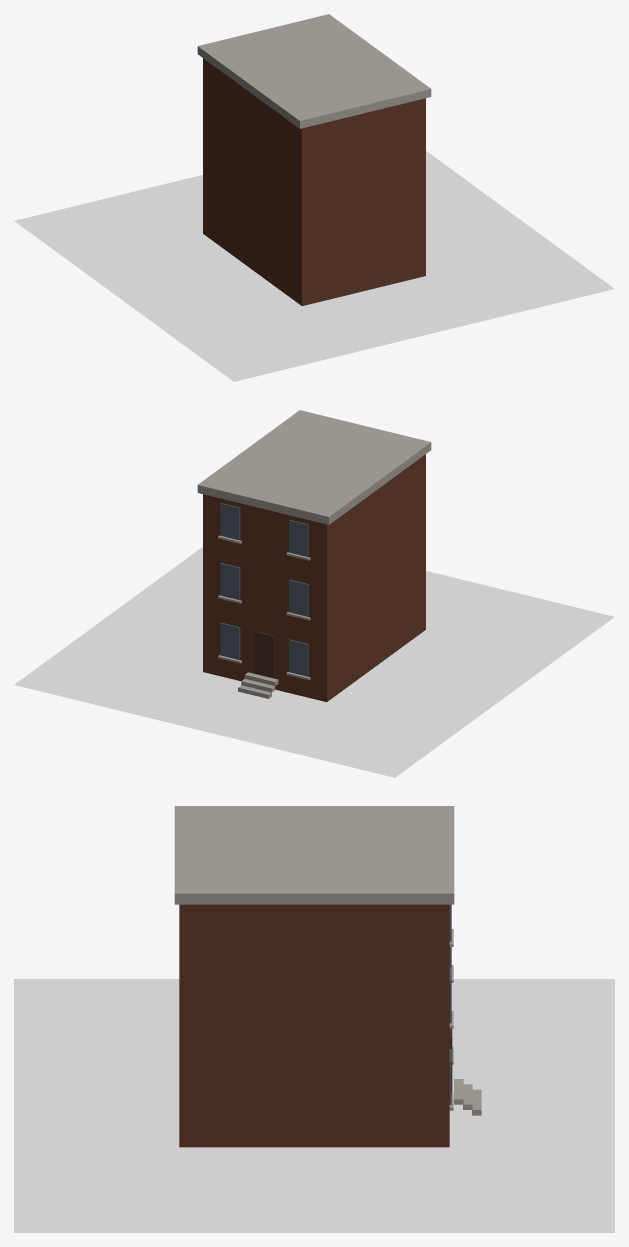
File: rowhouse.glb
The picture shows the model from 3 angles, top to bottom: view 1: azimuth 30°, elevation 25°; view 2: azimuth 150°, elevation 25°; view 3: azimuth 270°, elevation 25°; orthographic projection. The views are drawn at different scales.
Parts seen in each view (by area): view 1: Plane, Cube, Cube.001; view 2: Plane, Cube, Cube.001, Cube.005, Cube.016, Cube.012, Cube.008, Cube.006, Cube.010, Cube.014; view 3: Plane, Cube, Cube.001.
Part boxes in pixels (x1,y1,x2,y2): Plane: [14, 151, 614, 381]; Cube: [203, 58, 425, 306]; Cube.001: [197, 14, 431, 128]; Plane: [14, 547, 614, 777]; Cube: [203, 454, 425, 702]; Cube.001: [197, 410, 431, 524]; Cube.005: [254, 631, 274, 678]; Cube.016: [220, 503, 240, 539]; Cube.012: [220, 563, 240, 599]; Cube.008: [220, 622, 240, 659]; Cube.006: [289, 639, 308, 676]; Cube.010: [289, 579, 308, 616]; Cube.014: [289, 520, 308, 556]; Plane: [14, 979, 614, 1232]; Cube: [179, 904, 449, 1147]; Cube.001: [174, 806, 454, 904].
Bounding box in the file's own units: 20 × 9.4 × 20.
